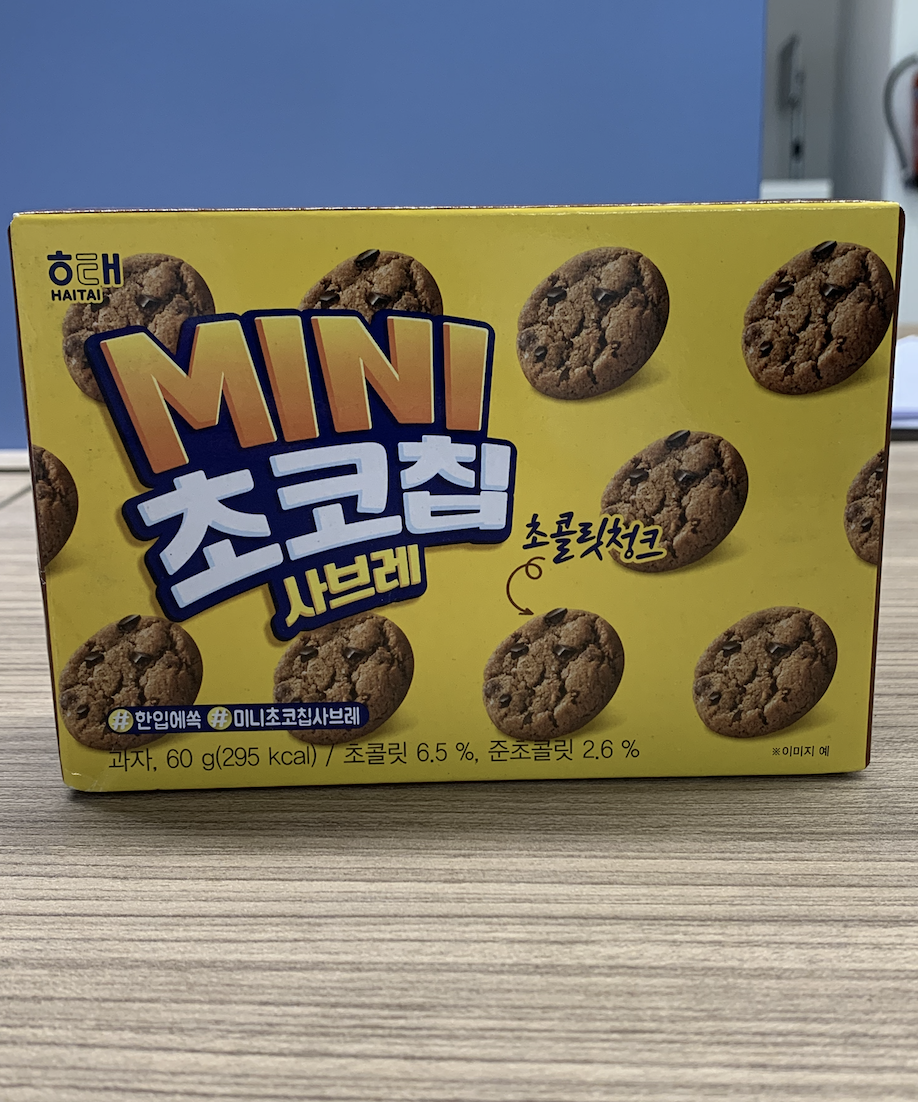cookies_1g-99g: (59, 250, 858, 771)
